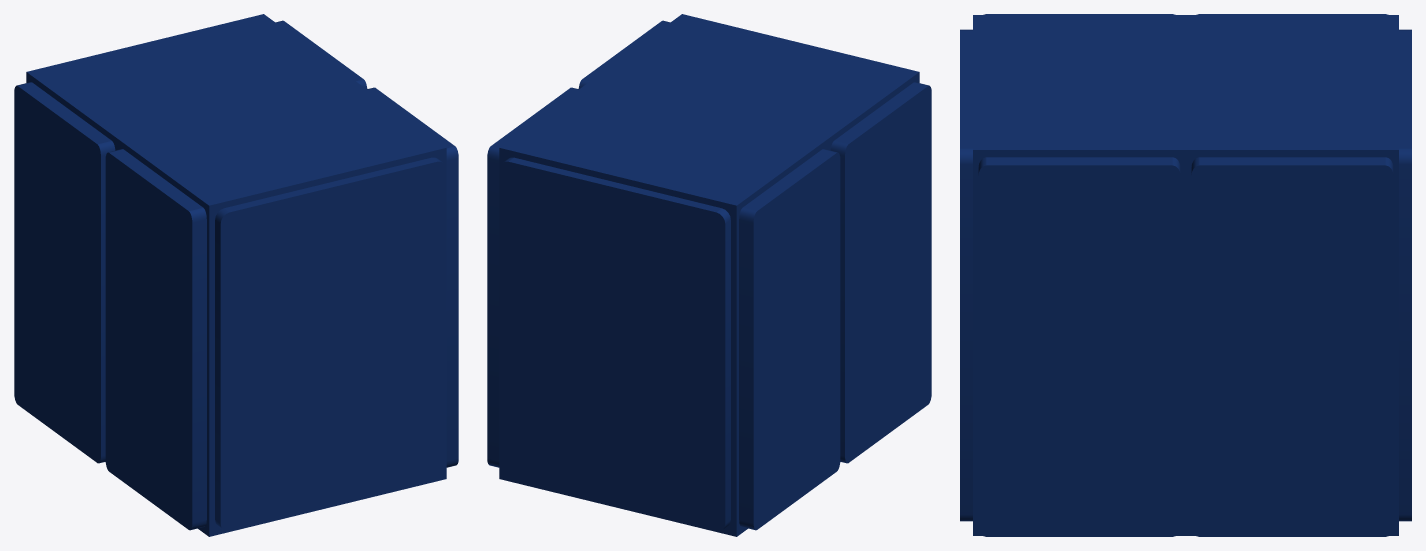
File: RoofTop_Wall.fbx
3 renders of one model, left to right at view 1: azimuth 30°, elevation 25°; view 2: azimuth 150°, elevation 25°; view 3: azimuth 270°, elevation 25°, orthographic. The views are drawn at different scales.
Parts seen in each view (by area): view 1: RoofTop_Wall; view 2: RoofTop_Wall; view 3: RoofTop_Wall.
Boxes of the visible parts, x1,y1,x2,y2 form: RoofTop_Wall: (14,14,458,536); RoofTop_Wall: (487,14,931,536); RoofTop_Wall: (960,14,1411,536).
Bounding box in the file's own units: 337 × 400 × 424.
